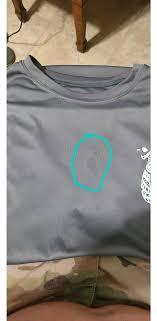mustard: (85, 149, 100, 175)
